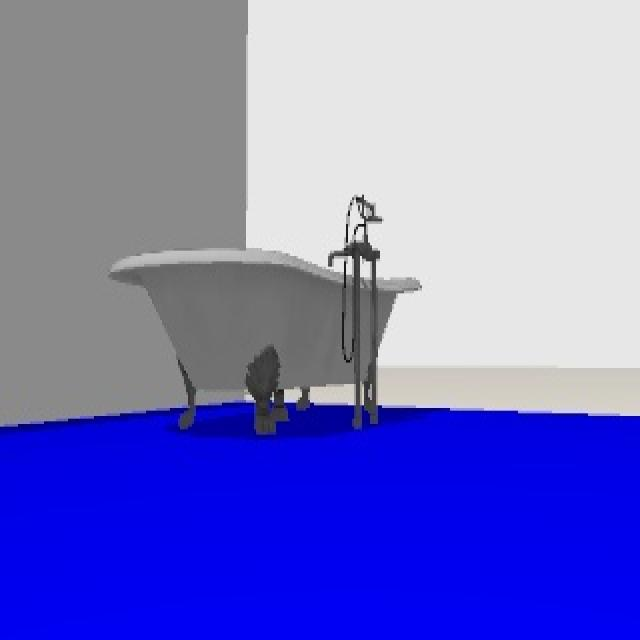bathtub: (108, 188, 425, 434)
